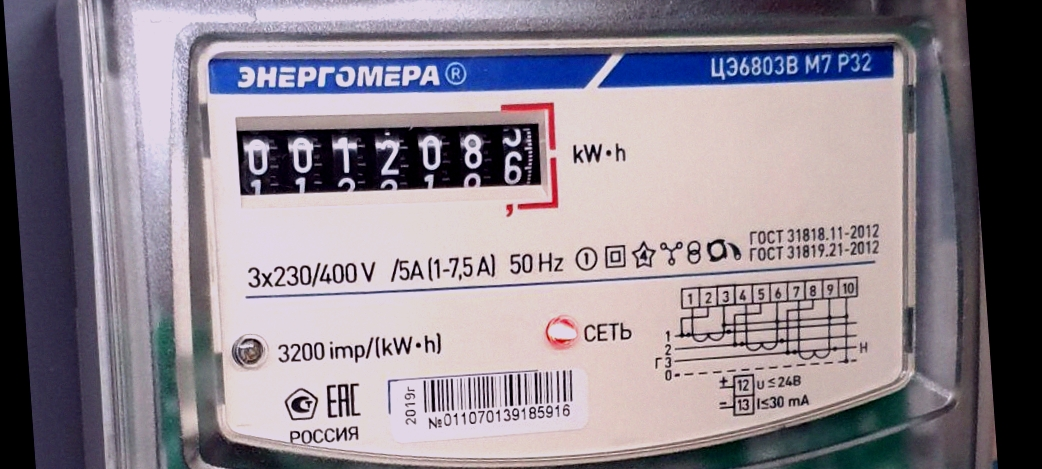0: (287, 132, 318, 176), (244, 133, 270, 177), (418, 131, 444, 172)
1: (332, 132, 357, 175)
2: (375, 136, 403, 177)
6: (498, 148, 525, 185)
8: (460, 129, 485, 171)
screen: (224, 81, 572, 243)
